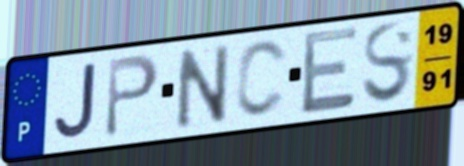C: (233, 37, 291, 121)
E: (300, 22, 360, 118)
J: (51, 60, 99, 143)
N: (175, 41, 232, 132)
P: (102, 51, 162, 141)
S: (359, 19, 416, 107)
